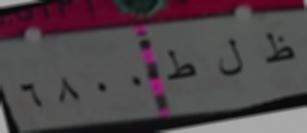0: (92, 74, 120, 95), (127, 68, 147, 95)
6: (20, 76, 45, 114)
8: (53, 74, 82, 107)
Taa: (165, 43, 198, 85)
Thaa: (258, 28, 296, 71)
laam: (213, 32, 250, 80)
